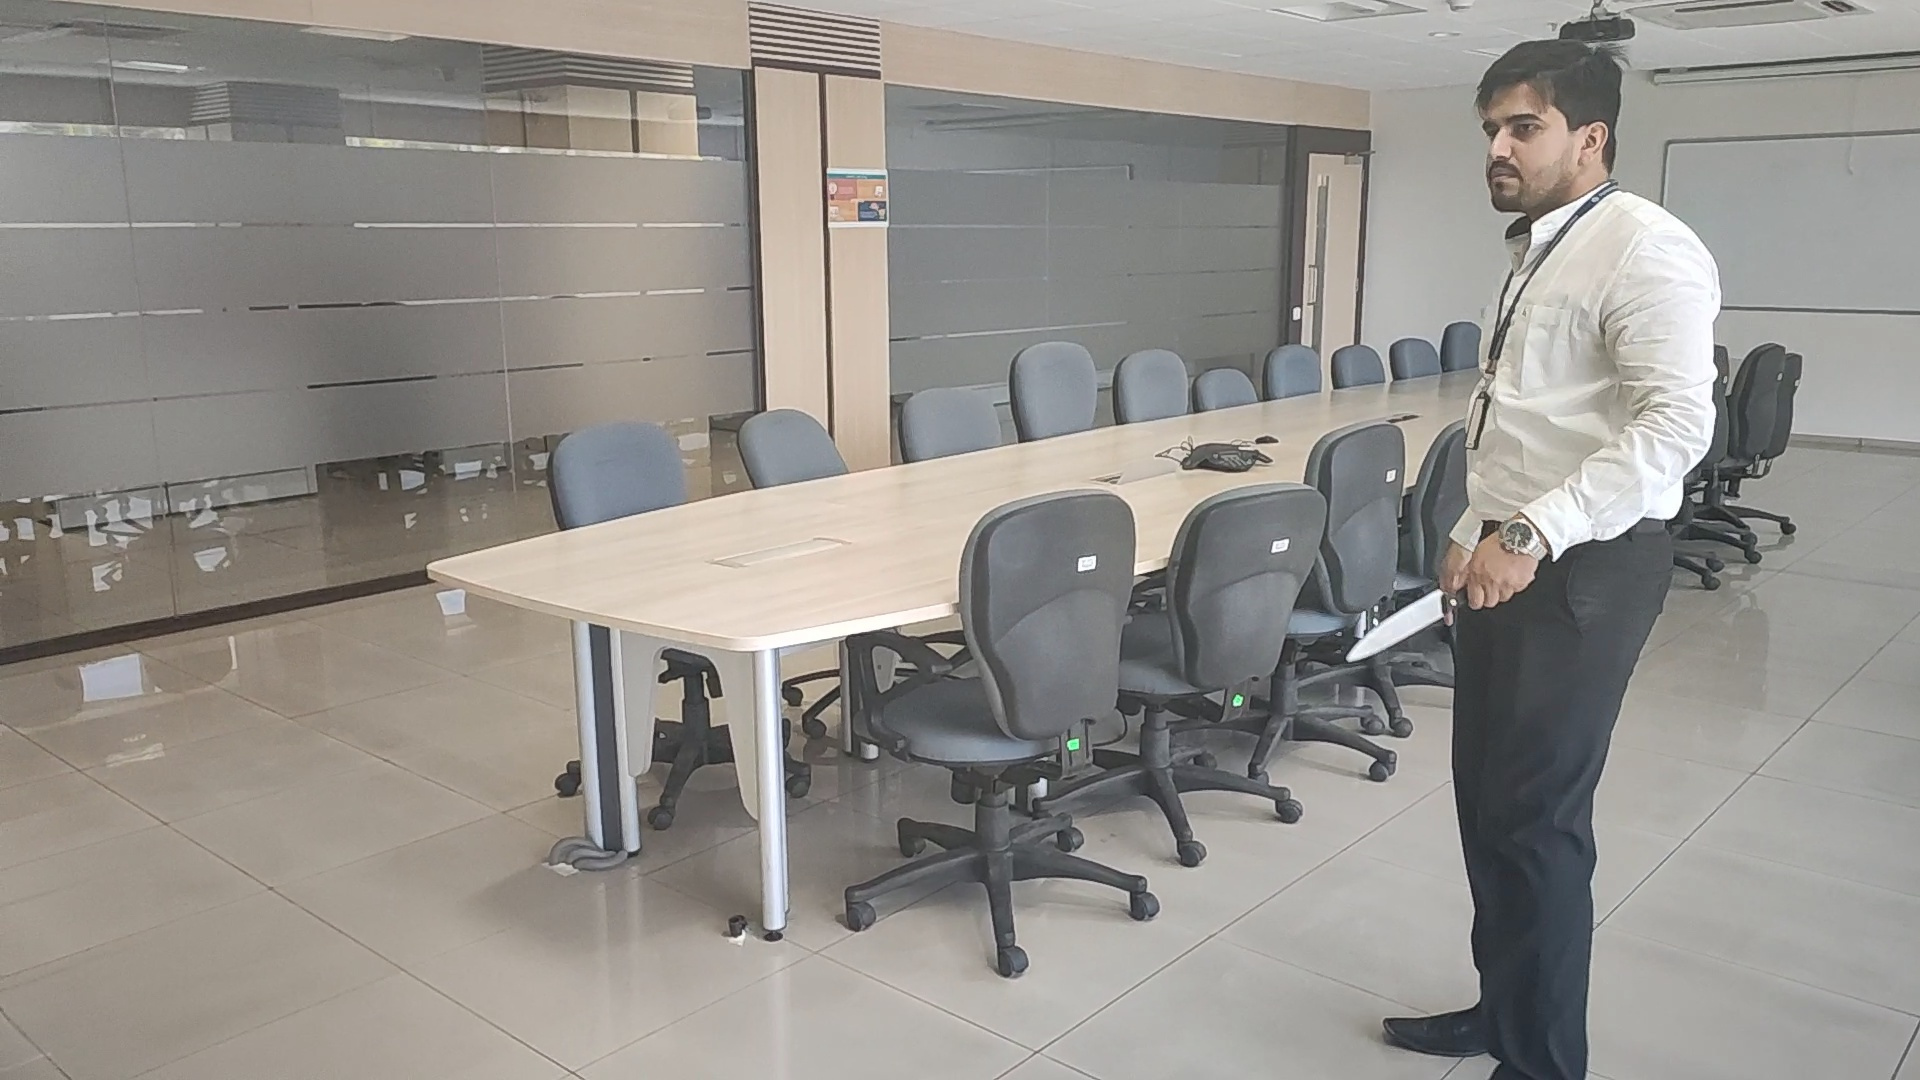knife: (1345, 588, 1444, 662)
